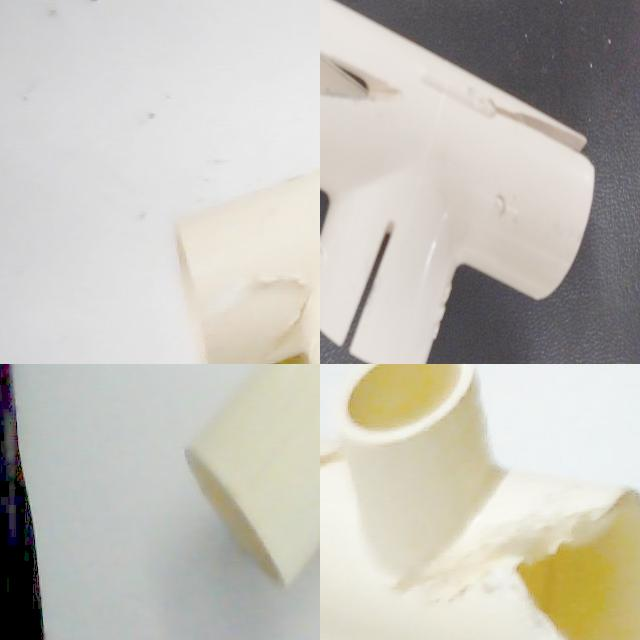Defective: (465, 520, 618, 640), (204, 244, 312, 364), (368, 241, 468, 311), (320, 446, 337, 498)
T Joint: (320, 364, 640, 640), (320, 0, 483, 364), (183, 364, 320, 591), (174, 171, 320, 364)
